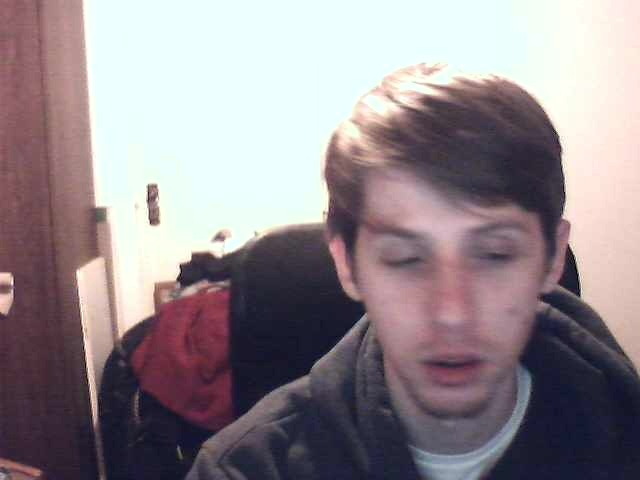noMask: (361, 290, 528, 418)
